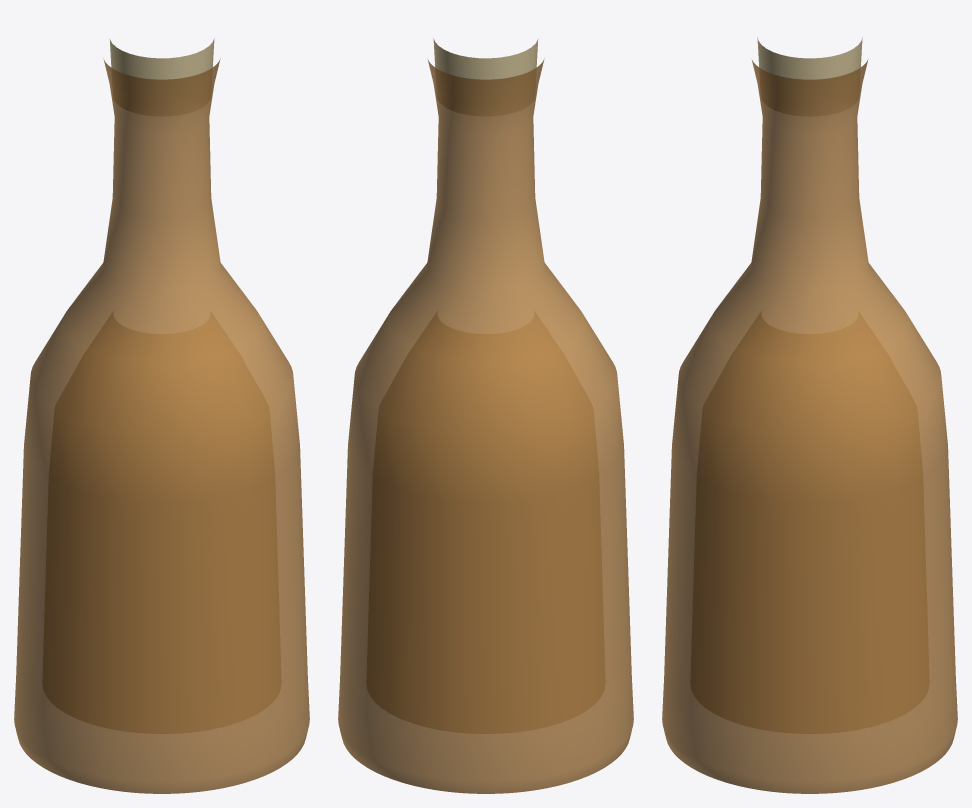
Rendered from macallan-18-sherry-oak.glb.
3 views of the same model, side by side, from view 1: azimuth 30°, elevation 25°; view 2: azimuth 150°, elevation 25°; view 3: azimuth 270°, elevation 25° (orthographic).
Parts seen in each view (by area): view 1: body, cap; view 2: body, cap; view 3: body, cap.
Part boxes in pixels (<box>): body: <box>14,59,309,793</box>; cap: <box>109,38,214,79</box>; body: <box>338,59,633,793</box>; cap: <box>433,38,538,79</box>; body: <box>662,59,957,793</box>; cap: <box>757,37,862,79</box>.
Size of the model in its own units: 0.45 by 1.17 by 0.45.
